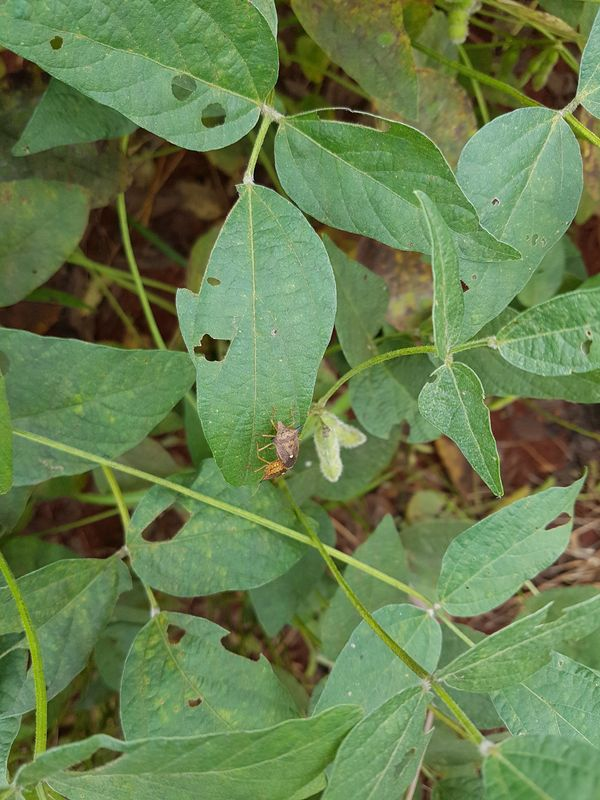Euschistus_heros_adulto: (258, 413, 325, 464), (253, 461, 292, 489)
